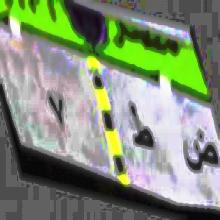7: (47, 84, 68, 134)
Taa: (128, 96, 156, 158)
daad: (182, 125, 219, 181)
